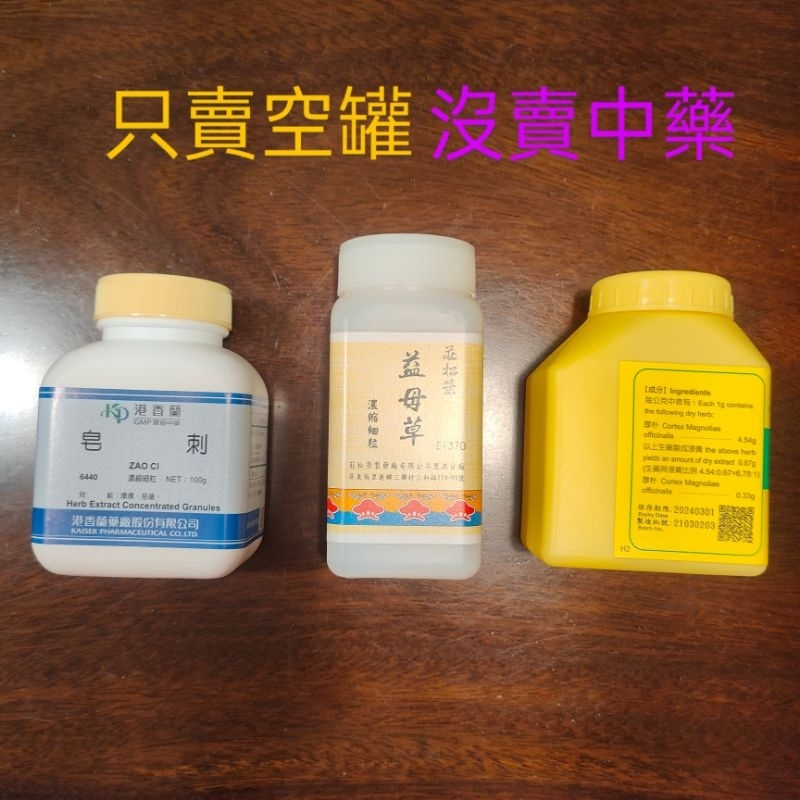medicinejar: (22, 240, 286, 601), (520, 240, 782, 601), (316, 221, 500, 593)
